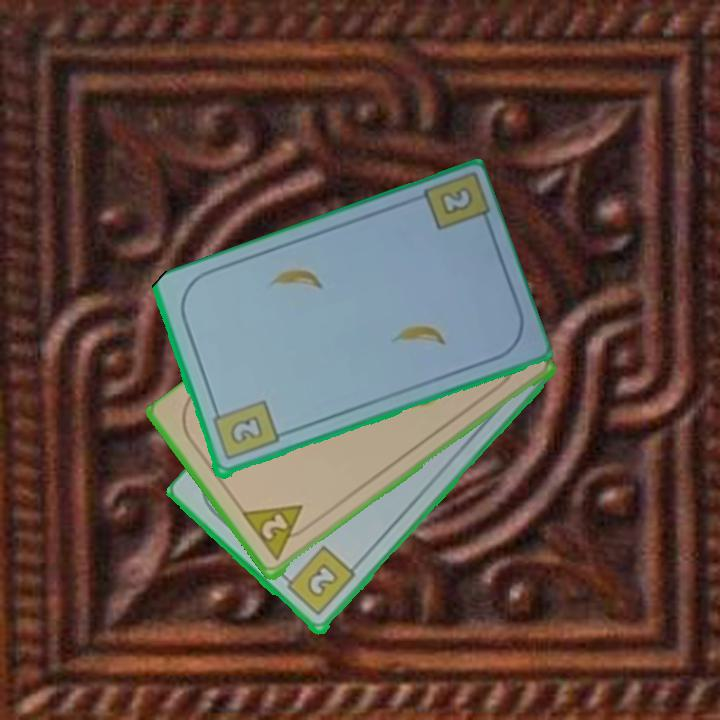2b: (278, 543, 358, 619), (208, 397, 281, 464), (435, 183, 476, 219)
2p: (239, 501, 316, 564)
